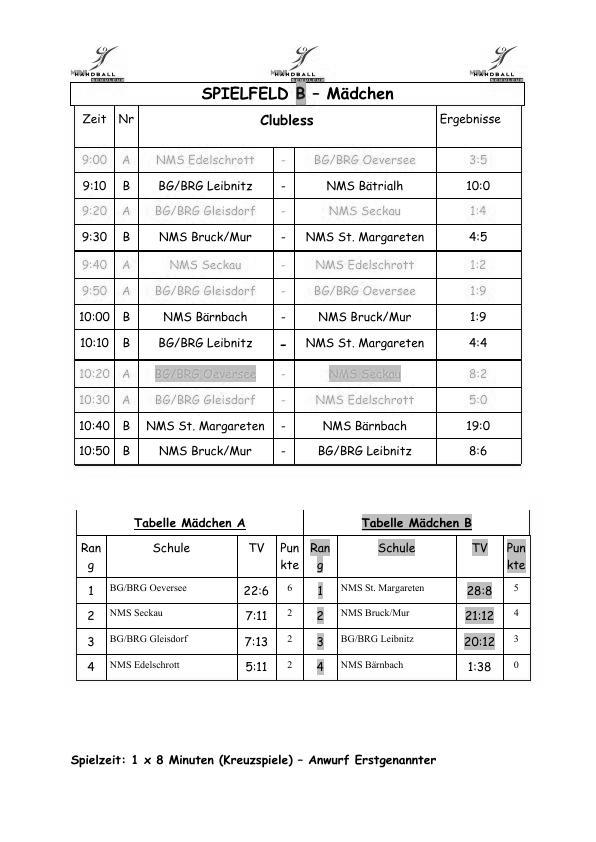table: (70, 80, 526, 467), (69, 505, 537, 687)
text: (68, 751, 439, 774)
